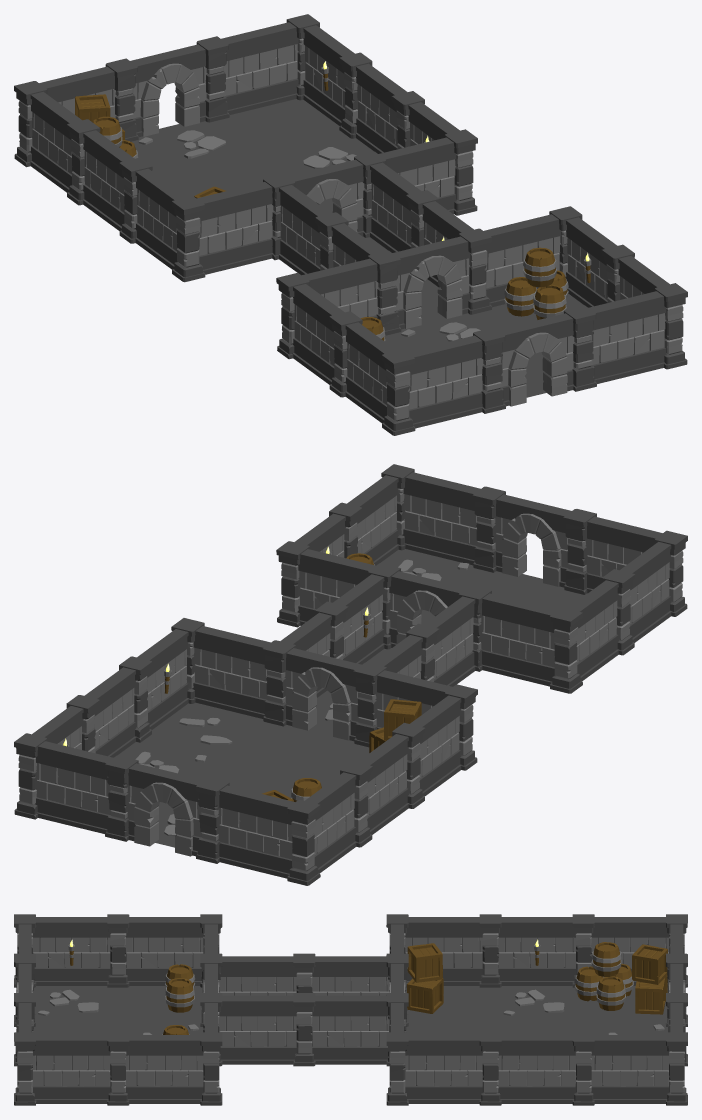
Rendered from dungeon.glb.
3 renders of one model, top to bottom at view 1: azimuth 30°, elevation 25°; view 2: azimuth 150°, elevation 25°; view 3: azimuth 270°, elevation 25°, orthographic. The views are drawn at different scales.
Visible parts, largest first — view 1: pillar.029, pillar.007, pillar.028, pillar.036, pillar.013, pillar.006, pillar.035, pillar.031, pillar.014, pillar.011, pillar.032, pillar.015 (+26 smaller); view 2: pillar.017, pillar.033, pillar.007, pillar.006, pillar.036, pillar.012, pillar.028, pillar.011, pillar.029, pillar.016, pillar.014, pillar.031 (+22 smaller); view 3: pillar.025, pillar.008, pillar.009, pillar.010, pillar.018, pillar.026, pillar.015, pillar.032, pillar.019, pillar.031, pillar.014, pillar.020 (+34 smaller).
Part boxes in pixels (bbox=[...]): pillar.029: bbox=[407, 327, 505, 428]; pillar.007: bbox=[196, 22, 299, 122]; pillar.028: bbox=[588, 283, 687, 383]; pillar.036: bbox=[498, 305, 596, 406]; pillar.013: bbox=[196, 173, 295, 274]; pillar.006: bbox=[105, 44, 207, 141]; pillar.035: bbox=[368, 236, 470, 335]; pillar.031: bbox=[345, 322, 415, 435]; pillar.014: bbox=[135, 168, 205, 282]; pillar.011: bbox=[378, 129, 477, 215]; pillar.032: bbox=[292, 284, 362, 397]; pillar.015: bbox=[82, 130, 152, 243]; pillar.017: bbox=[218, 785, 320, 885]; pillar.033: bbox=[480, 593, 582, 693]; pillar.007: bbox=[35, 741, 138, 841]; pillar.006: bbox=[127, 763, 229, 863]; pillar.036: bbox=[472, 486, 571, 587]; pillar.012: bbox=[262, 640, 361, 741]; pillar.028: bbox=[381, 464, 480, 565]; pillar.011: bbox=[171, 618, 270, 718]; pillar.029: bbox=[563, 509, 662, 594]; pillar.016: bbox=[305, 761, 372, 873]; pillar.014: bbox=[410, 684, 477, 796]; pillar.031: bbox=[620, 530, 687, 642]; pillar.025: bbox=[126, 1032, 222, 1105]; pillar.008: bbox=[591, 1032, 687, 1105]; pillar.009: bbox=[498, 1032, 594, 1105]; pillar.010: bbox=[405, 1032, 501, 1105]; pillar.018: bbox=[293, 993, 389, 1066]; pillar.026: bbox=[32, 1032, 129, 1105]; pillar.015: bbox=[479, 914, 575, 987]; pillar.032: bbox=[107, 914, 203, 987]; pillar.019: bbox=[200, 993, 296, 1066]; pillar.031: bbox=[14, 914, 110, 987]; pillar.014: bbox=[386, 914, 482, 987]; pillar.020: bbox=[293, 953, 389, 995].
Bounding box in the file's own units: 12.95 × 3.14 × 28.96.
